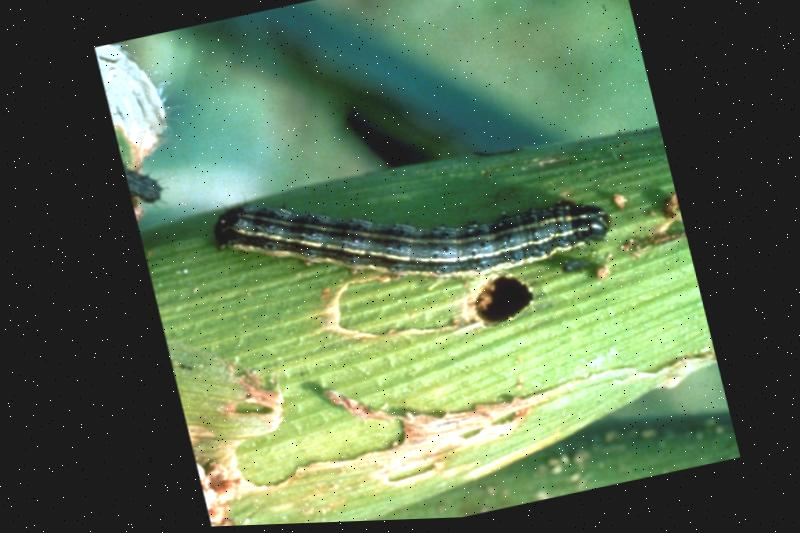fall-armyworm: (209, 203, 608, 285)
